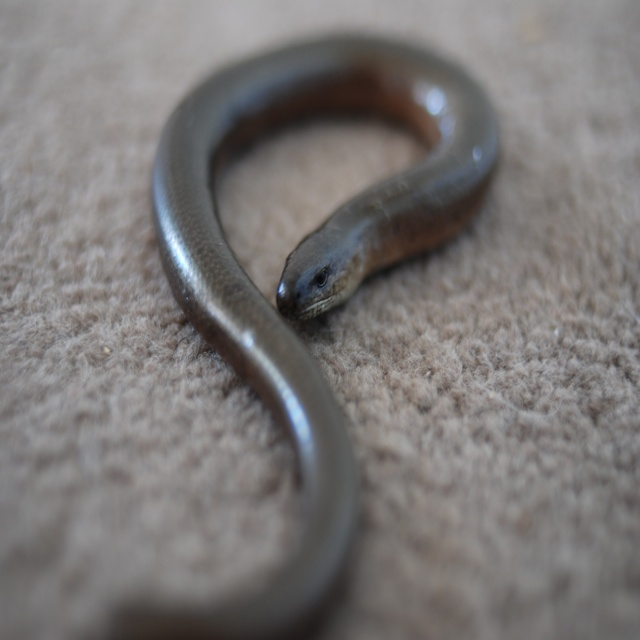Snake: (103, 33, 507, 639)
